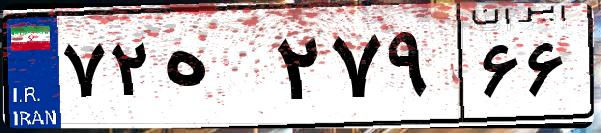2: (270, 28, 330, 110), (110, 28, 158, 98)
6: (475, 38, 525, 113), (525, 38, 570, 115)
7: (330, 28, 385, 110), (57, 26, 110, 100)
9: (385, 28, 445, 110)
ه: (158, 20, 270, 120)
